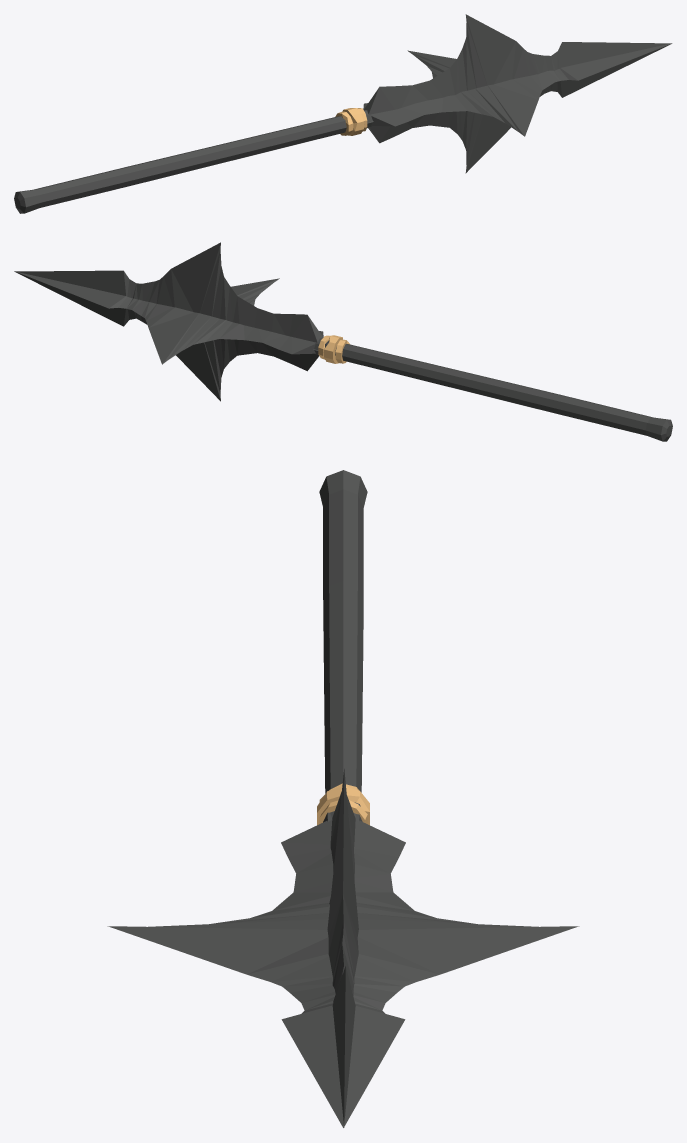
File: Harpoon_003.fbx
3 views of the same model, one above another, from view 1: azimuth 30°, elevation 25°; view 2: azimuth 150°, elevation 25°; view 3: azimuth 270°, elevation 25° (orthographic). The views are drawn at different scales.
Visible parts, largest first — view 1: Harpoon_003; view 2: Harpoon_003; view 3: Harpoon_003.
Part boxes in pixels (box(x1,y1,x2,y2)): Harpoon_003: box(14, 14, 672, 213); Harpoon_003: box(14, 242, 672, 441); Harpoon_003: box(107, 470, 579, 1127).
Bounding box in the file's own units: 1.2 × 0.279 × 0.3747.
